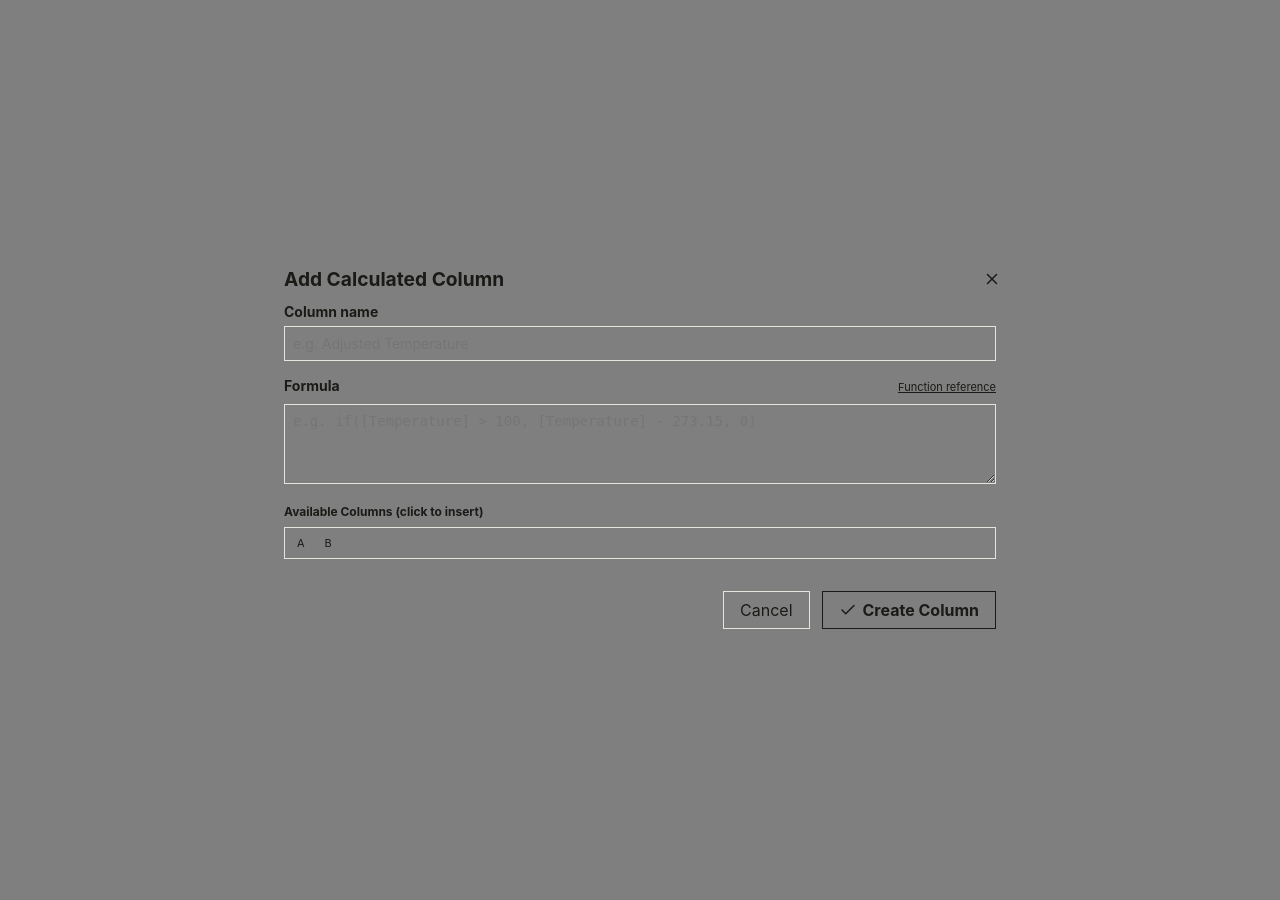
Test: CalculatedColumnModal › shows error if calculation fails during submit
Note: Fill inputs
Type "New Calc" into the field labelled "Column name" at (640, 344), box [284, 326, 996, 361]
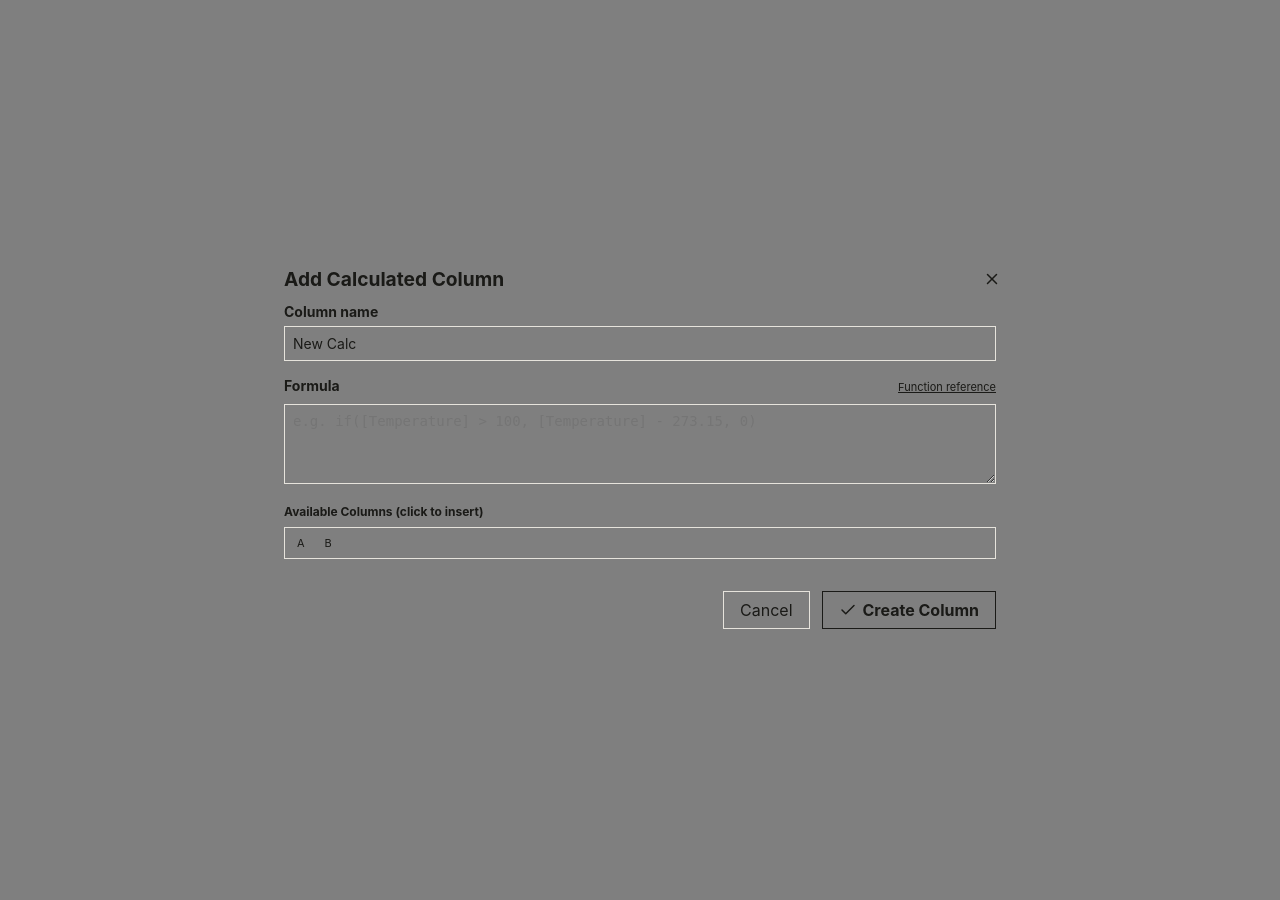
Type "[A] + [B]" into the text box labelled "Formula" at (640, 444), box [284, 404, 996, 484]
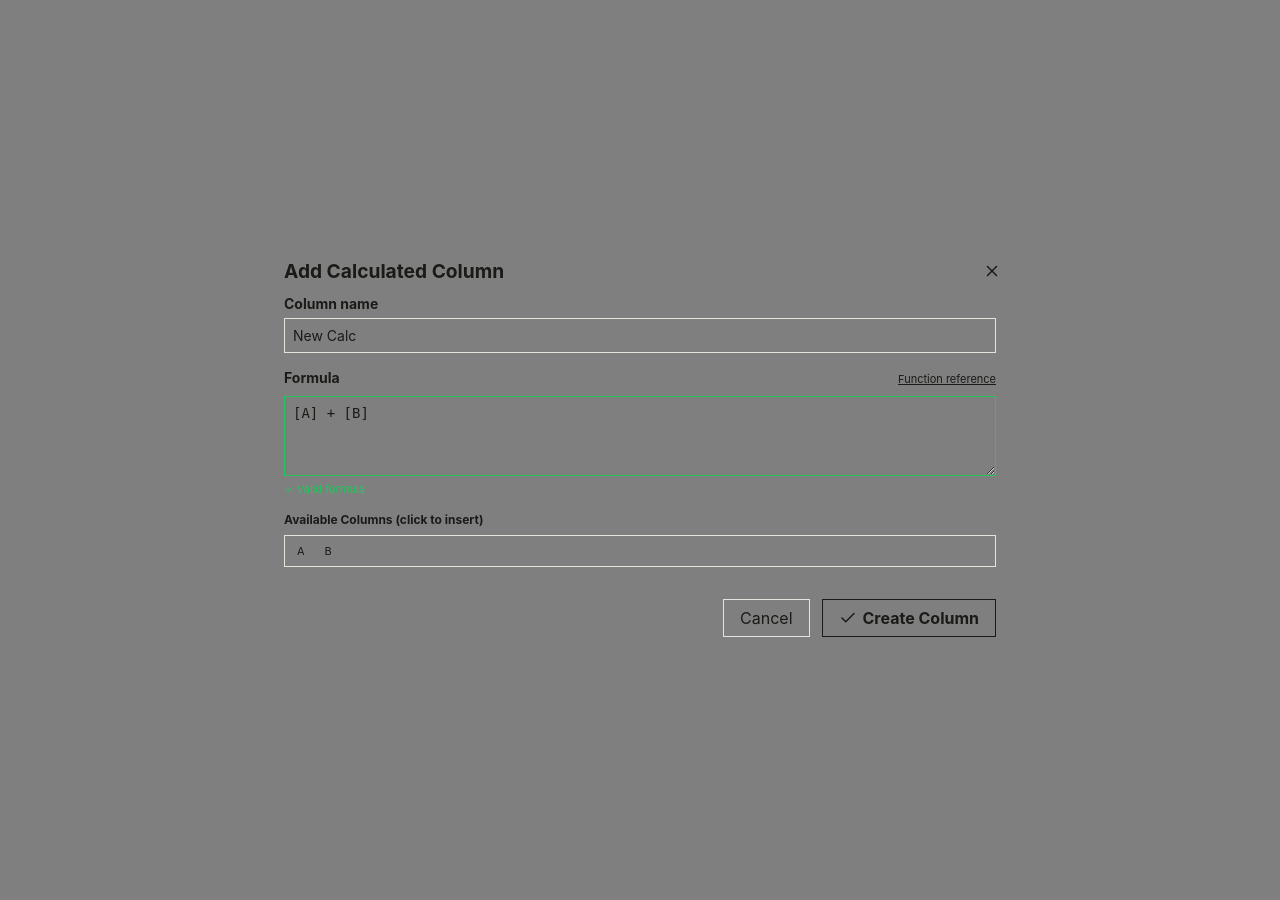
Note: Submit form
Click the button "Create Column" at (909, 618), box [822, 599, 996, 637]
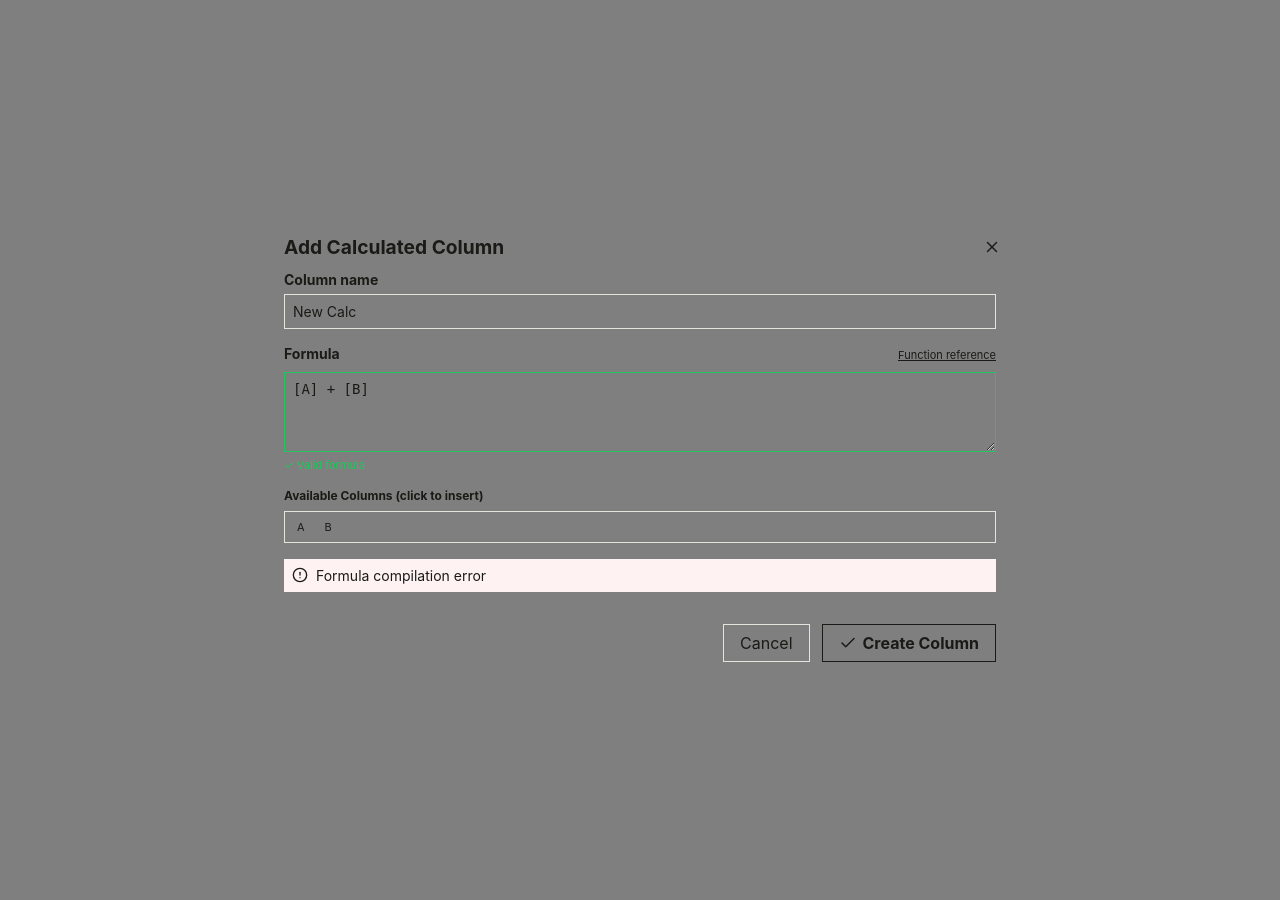
Result: the text "Formula compilation error" is shown at [316, 566, 486, 584]
